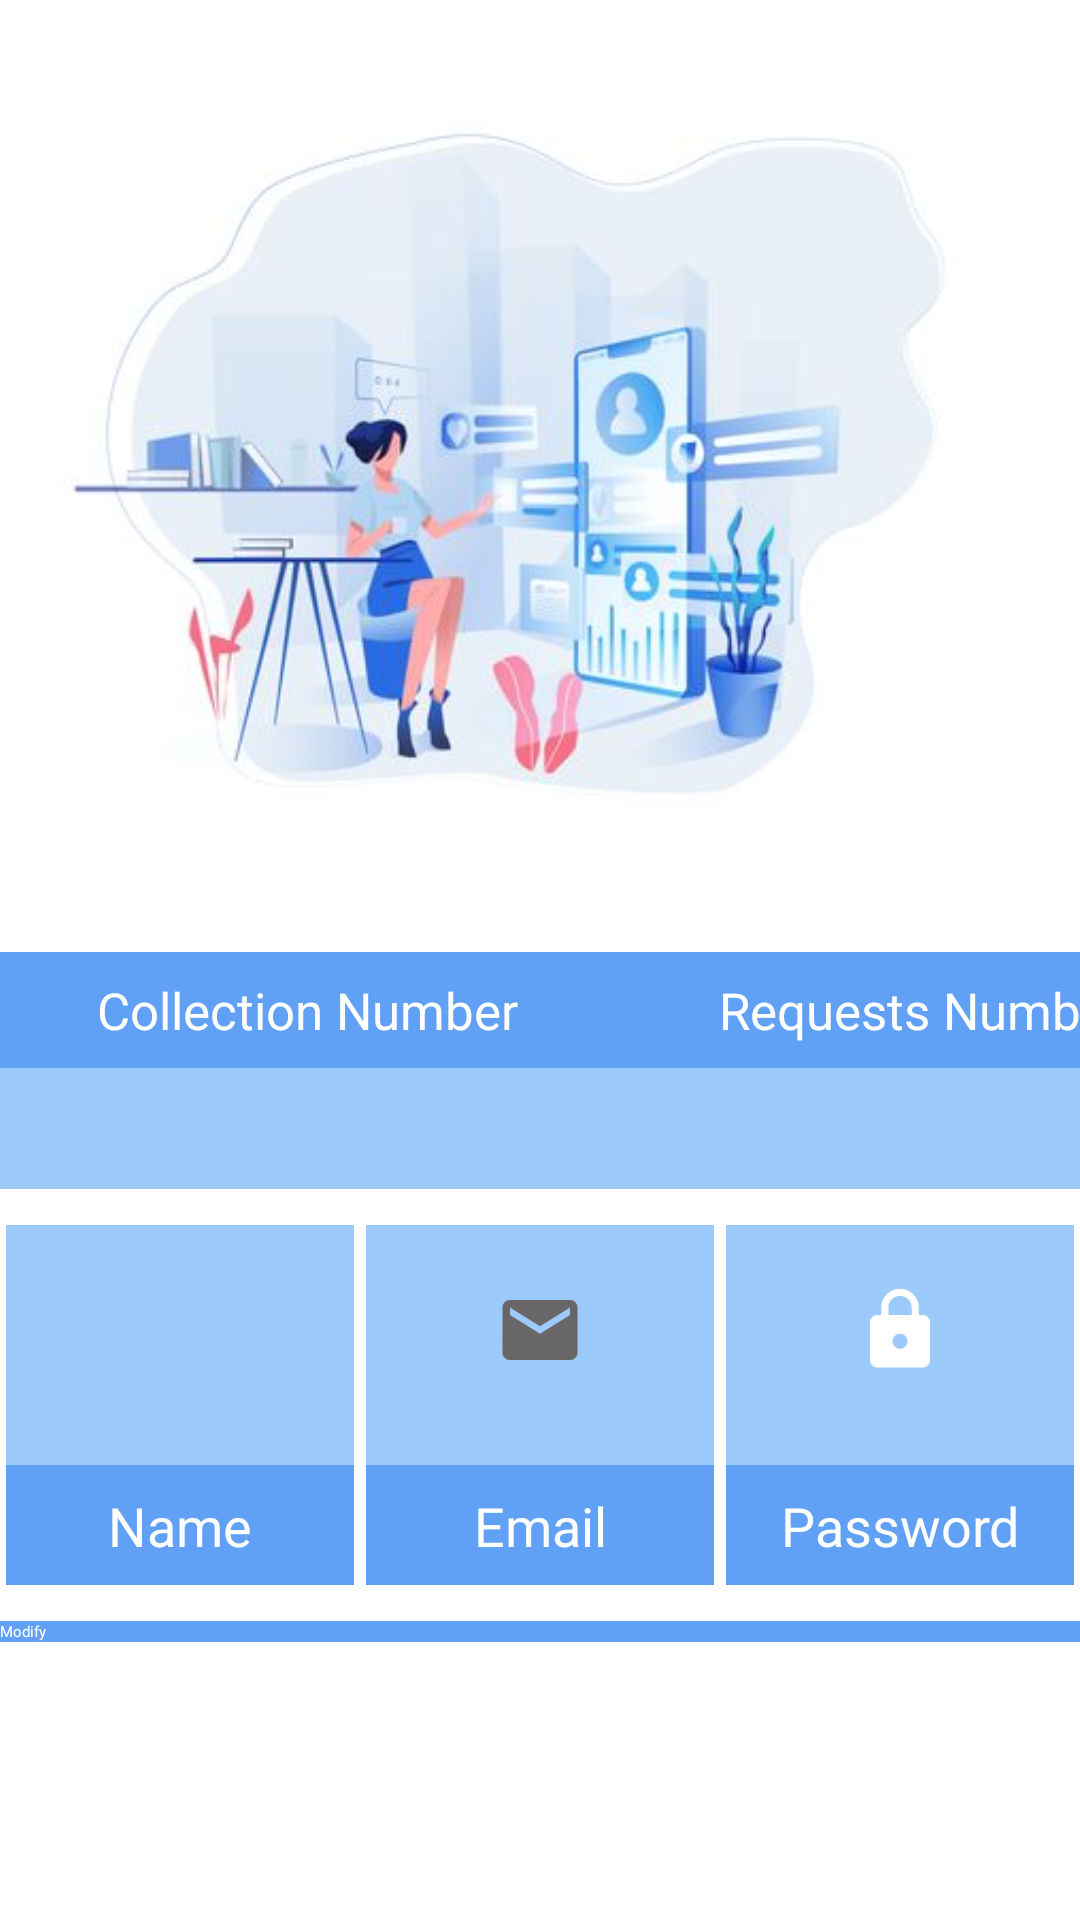

Icon bounding boxes for this 1080 × 1920 phone screenshot, format rect(x1, y1, x2, y2):
lock: rect(870, 1289, 930, 1368)
